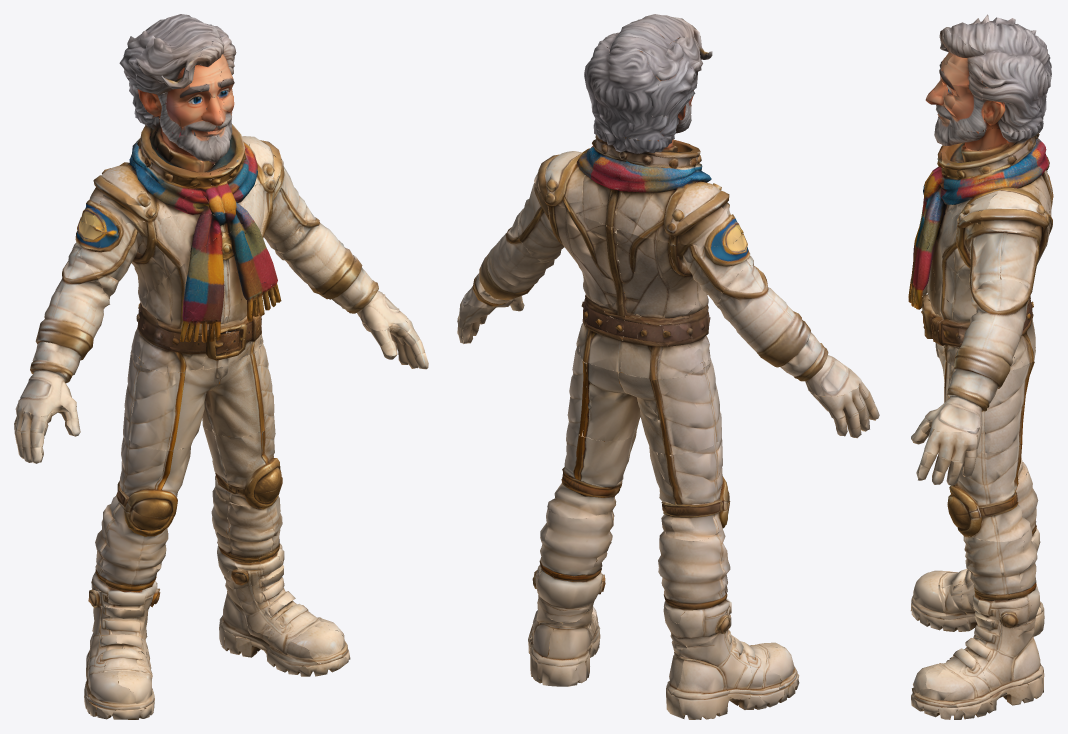
Rendered from violinist_moon.fbx.
The picture shows the model from 3 angles, left to right: view 1: azimuth 30°, elevation 25°; view 2: azimuth 150°, elevation 25°; view 3: azimuth 270°, elevation 25°; orthographic projection. The views are drawn at different scales.
Parts seen in each view (by area): view 1: violinist_moon; view 2: violinist_moon; view 3: violinist_moon.
Boxes of the visible parts, x1,y1,x2,y2 form: violinist_moon: [14, 14, 428, 719]; violinist_moon: [457, 14, 879, 719]; violinist_moon: [908, 14, 1053, 719].
Bounding box in the file's own units: 1.18 × 1.85 × 0.3827.
Materials: 1 (1 with a texture image).
